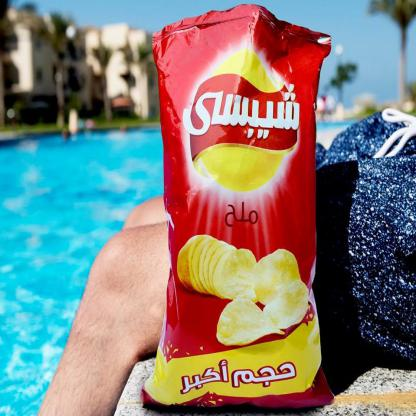potatochip: (134, 3, 340, 415)
